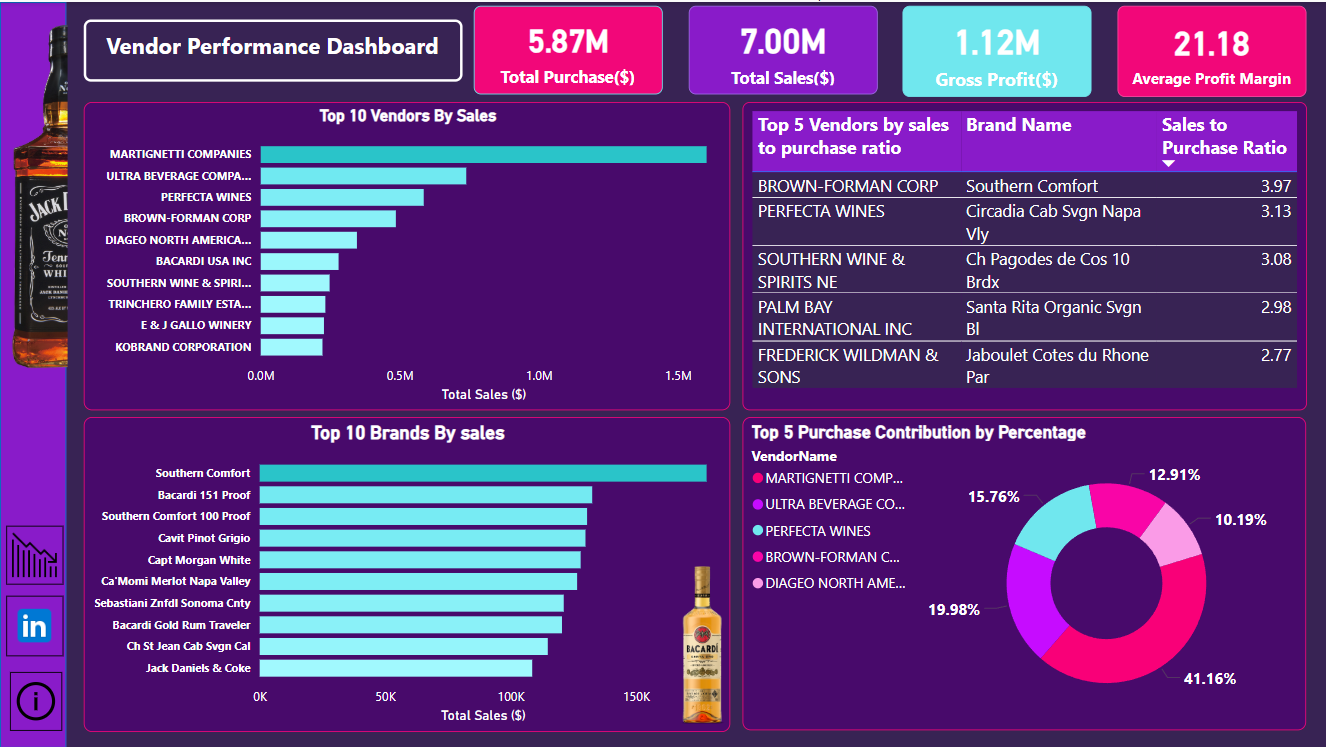

The page's visual inventory and layout, read from the dashboard file:
{"tool":"powerbi","page":{"name":"Top Performing Vendors","canvas":[1280,720],"ordinal":0},"visuals":[{"type":"card","fields":{"Values":["Sum(vendor_sales_summary_new.TotalSalesDollars)"]},"box":[664.3,3.6,182.2,85.7],"z":0},{"type":"card","fields":{"Values":["Sum(vendor_sales_summary_new.TotalPurchaseDollars)"]},"box":[457.2,3.6,182.2,85.7],"z":1000},{"type":"card","fields":{"Values":["Sum(vendor_sales_summary_new.GrossProfit)"]},"box":[871.5,3.6,182.2,88.1],"z":2000},{"type":"card","fields":{"Values":["Avg(vendor_sales_summary_new.ProfitMargin)"]},"box":[1078.6,3.6,182.2,88.1],"z":3000},{"type":"donutChart","title":"Top 5 Purchase Contribution by Percentage","fields":{"Category":["PurchaseContribution.VendorName"],"Y":["Sum(PurchaseContribution.TotalPurchaseContribution%)"]},"box":[716.6,400.5,544.1,302],"z":4000},{"type":"clusteredBarChart","title":"Top 10 Vendors By Sales","fields":{"Category":["vendor_sales_summary_new.VendorName"],"Y":["Sum(vendor_sales_summary_new.TotalSalesDollars)"]},"box":[81.2,96.3,624.4,297.9],"z":5000},{"type":"clusteredBarChart","title":"Top 10 Brands By sales","fields":{"Category":["vendor_sales_summary_new.Description"],"Y":["Sum(vendor_sales_summary_new.TotalSalesDollars)"]},"box":[81.2,400.2,624.4,303.9],"z":6000},{"type":"shape","box":[0,0,64.1,719.9],"z":7000},{"type":"textbox","box":[81.2,16.5,365.6,60.2],"z":8000},{"type":"tableEx","fields":{"Values":["vendor_sales_summary_new.VendorName","vendor_sales_summary_new.Description","Sum(vendor_sales_summary_new.SalestoPurchaseRatio)"]},"box":[716.1,96.3,544.6,297.9],"z":9000},{"type":"image","box":[6.1,572.8,55,58],"z":10000},{"type":"image","box":[6.1,505.6,55,56.5],"z":11000},{"type":"actionButton","box":[9.2,646.1,50.4,56.5],"z":12000},{"type":"image","box":[639.4,521.2,77.2,197.9],"z":13001},{"type":"image","box":[5.5,0,64.5,373.2],"z":13002}]}

Visuals, with their boxes in screenshot pixels (x1, y1, x2, y2), scaled from the page's 1280x720 canvas onto the 1326x747 screenshot:
card - Sum(vendor_sales_summary_new.TotalSalesDollars): x1=688, y1=4, x2=877, y2=93
card - Sum(vendor_sales_summary_new.TotalPurchaseDollars): x1=474, y1=4, x2=662, y2=93
card - Sum(vendor_sales_summary_new.GrossProfit): x1=903, y1=4, x2=1092, y2=95
card - Avg(vendor_sales_summary_new.ProfitMargin): x1=1117, y1=4, x2=1306, y2=95
"Top 5 Purchase Contribution by Percentage" donutChart: x1=742, y1=416, x2=1306, y2=729
"Top 10 Vendors By Sales" clusteredBarChart: x1=84, y1=100, x2=731, y2=409
"Top 10 Brands By sales" clusteredBarChart: x1=84, y1=415, x2=731, y2=731
shape: x1=0, y1=0, x2=66, y2=746
textbox: x1=84, y1=17, x2=463, y2=80
tableEx - vendor_sales_summary_new.VendorName x vendor_sales_summary_new.Description: x1=742, y1=100, x2=1306, y2=409
image: x1=6, y1=594, x2=63, y2=654
image: x1=6, y1=525, x2=63, y2=583
actionButton: x1=10, y1=670, x2=62, y2=729
image: x1=662, y1=541, x2=742, y2=746
image: x1=6, y1=0, x2=73, y2=387
